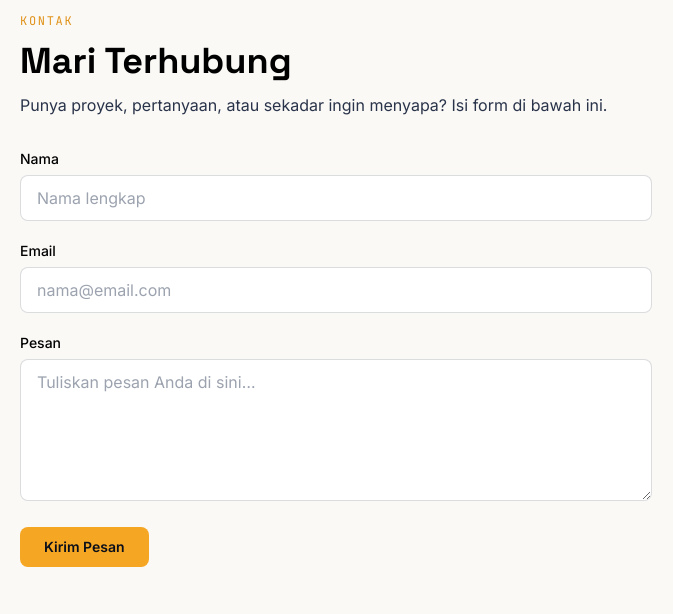
Test: Contact form › menampilkan error format email ketika email tidak valid
The image size is (673, 614).
In the field labelled "Nama": (336,198) [20,175,652,221], type "Budi Santoso"
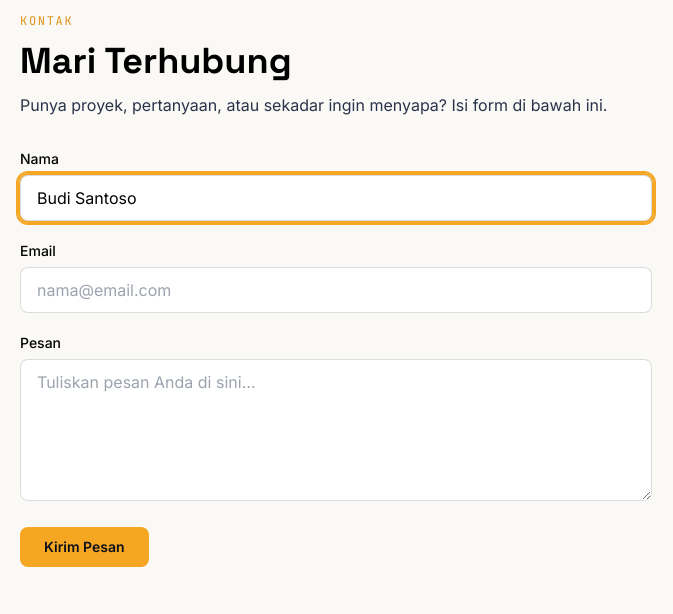
In the field labelled "Email": (336,290) [20,267,652,313], type "bukan-email"
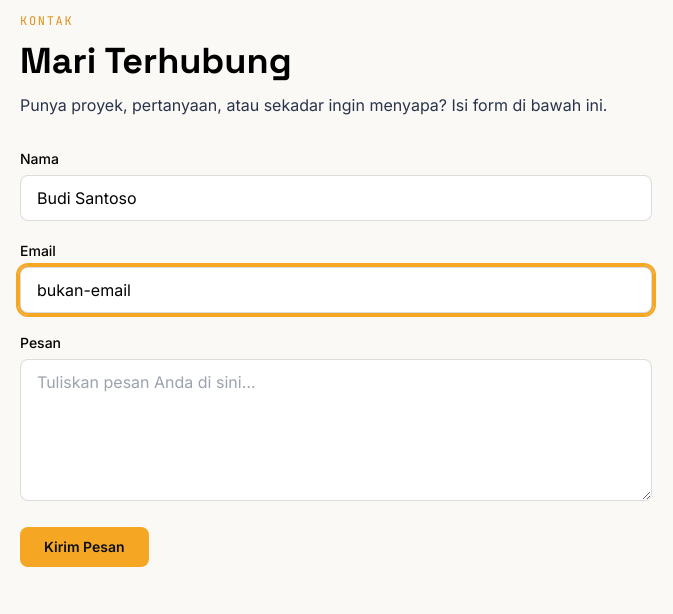
In the text box labelled "Pesan": (336,430) [20,359,652,501], type "Halo, saya ingin bertanya."
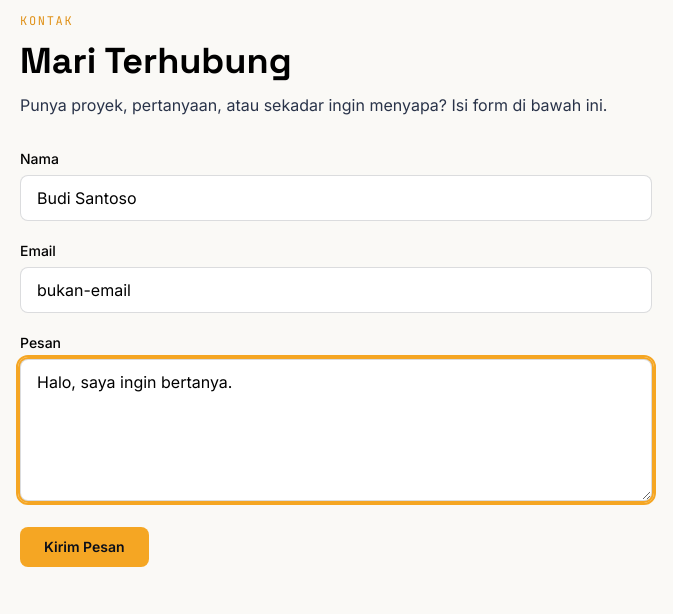
Click the button "Kirim Pesan": (84,547) [20,527,149,567]
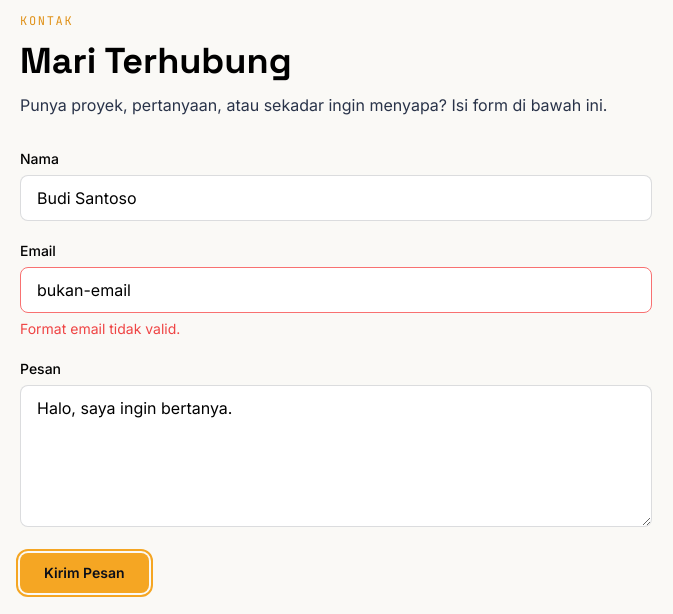
Expected: the text "Format email tidak valid." is shown, [20,320,180,337]
